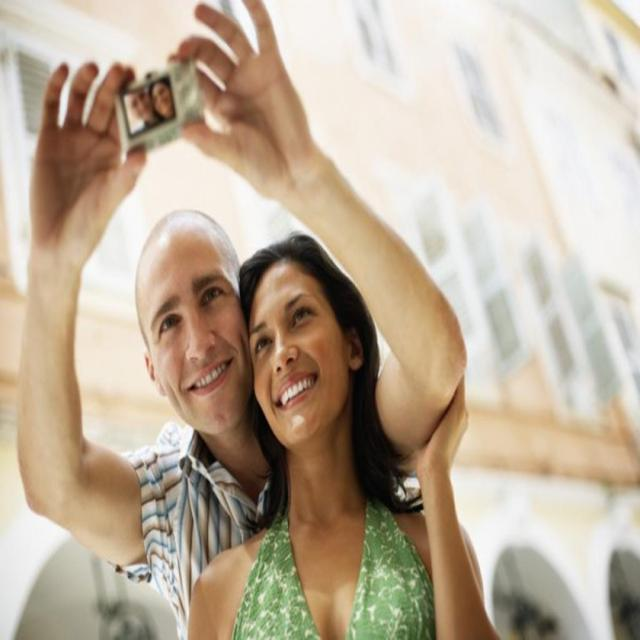Face: (235, 248, 360, 452), (144, 227, 251, 425)
